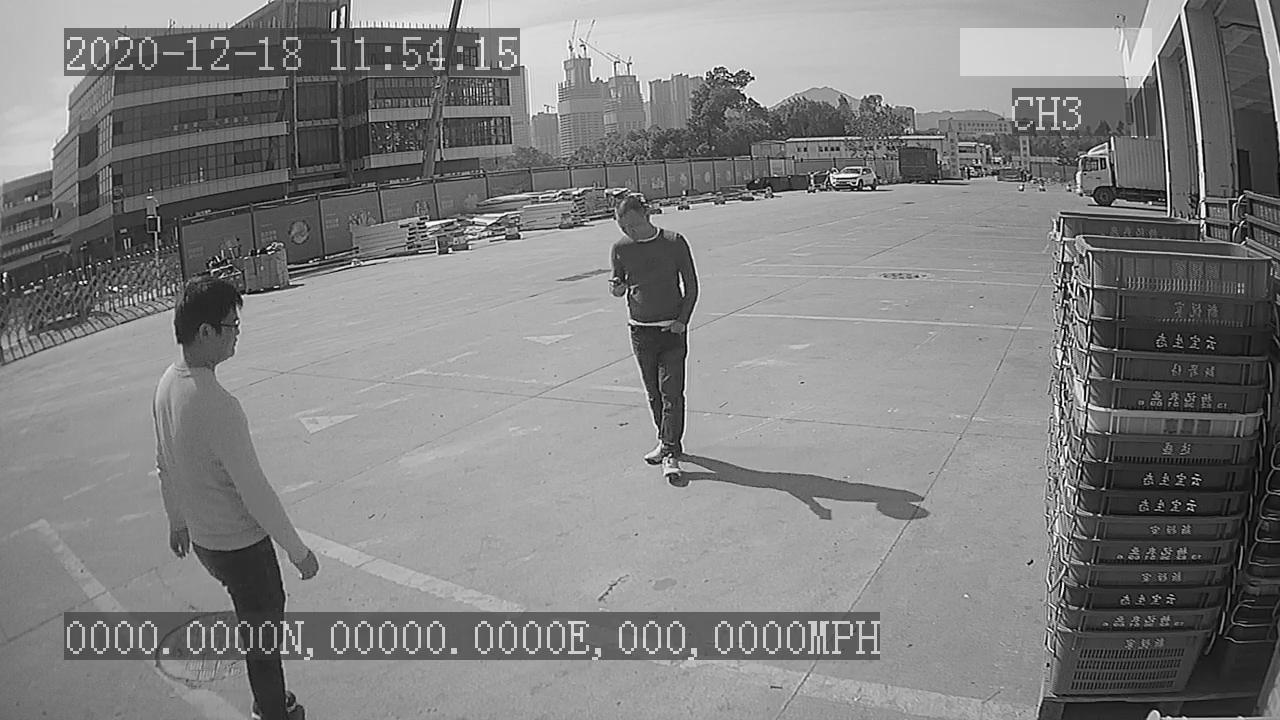person: (593, 190, 717, 485)
